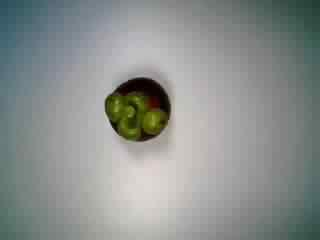mangosteen: (99, 66, 176, 149)
